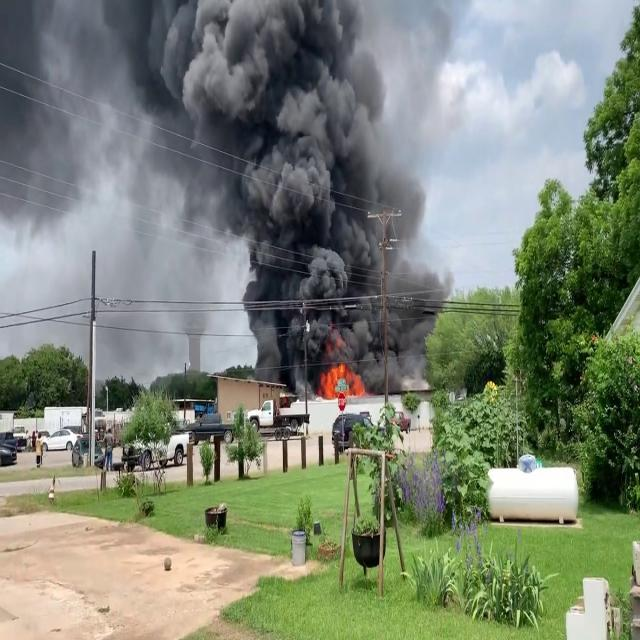Fire: (319, 358, 365, 398)
Smoke: (124, 0, 449, 384), (3, 0, 224, 244)
